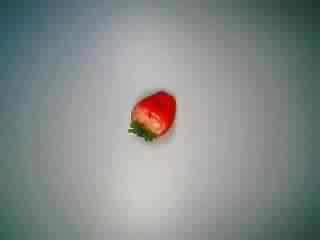strawberry: (119, 85, 185, 147)
